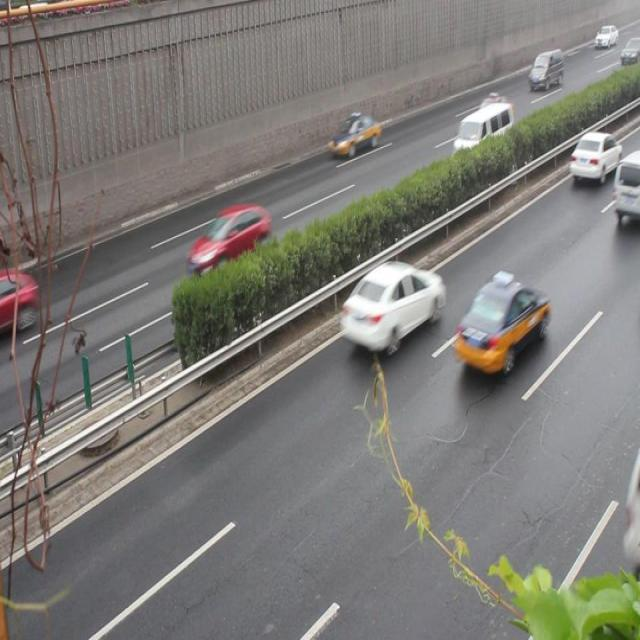car: (456, 274, 550, 375), (340, 258, 439, 346), (190, 203, 271, 280), (568, 130, 621, 182), (466, 95, 516, 142), (1, 264, 36, 330), (330, 115, 381, 159)
truck: (449, 102, 514, 175), (614, 150, 640, 222)
